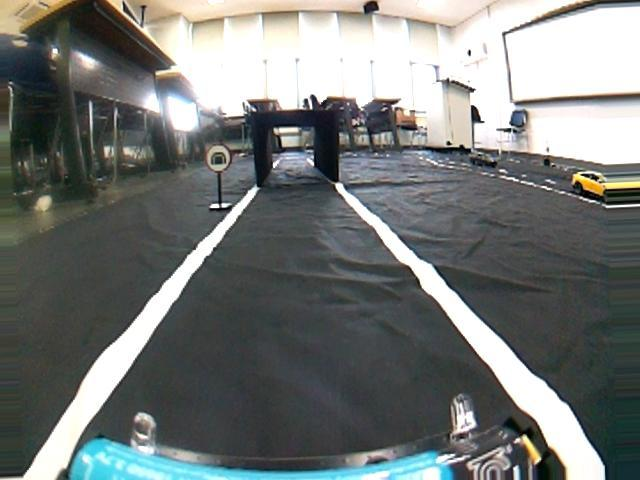sign_tunnel: (195, 135, 242, 180)
straight: (38, 228, 636, 458)
